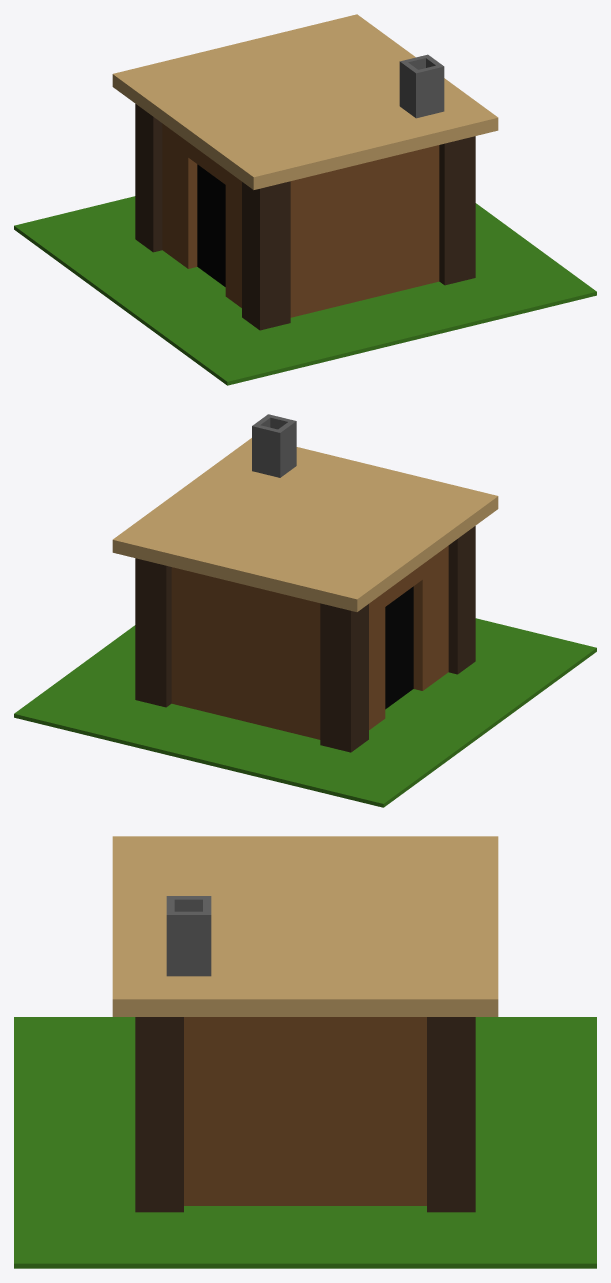
Rendered from lvl3.glb.
3 renders of one model, top to bottom at view 1: azimuth 30°, elevation 25°; view 2: azimuth 150°, elevation 25°; view 3: azimuth 270°, elevation 25°, orthographic. The views are drawn at different scales.
Parts seen in each view (by area): view 1: Plane, Cube.008, Cube.005, Cube.004, Cube.002, Cube, Cube.001, Cube.010, Cube.009; view 2: Cube.008, Plane, Cube.006, Cube.004, Cube.001, Cube.003, Cube.002, Cube.010, Cube.009; view 3: Plane, Cube.008, Cube.007, Cube, Cube.003, Cube.009.
Part boxes in pixels (x1,y1,x2,y2): Plane: (14,196,596,385); Cube.008: (112,14,498,189); Cube.005: (290,145,439,317); Cube.004: (162,123,241,307); Cube.002: (242,181,290,330); Cube: (439,136,475,285); Cube.001: (135,104,162,252); Cube.010: (197,164,225,286); Cube.009: (399,54,444,118); Cube.008: (112,438,498,611); Plane: (14,618,596,807); Cube.006: (171,567,320,739); Cube.004: (369,545,448,729); Cube.001: (320,603,368,752); Cube.003: (135,558,171,707); Cube.002: (448,526,475,674); Cube.010: (385,586,413,709); Cube.009: (252,414,296,477); Plane: (14,1017,596,1268); Cube.008: (112,836,498,1016); Cube.007: (184,1017,426,1205); Cube: (135,1017,183,1212); Cube.003: (427,1017,475,1212); Cube.009: (166,896,211,976).
Size of the model in its own units: 6 by 3.29 by 6.
